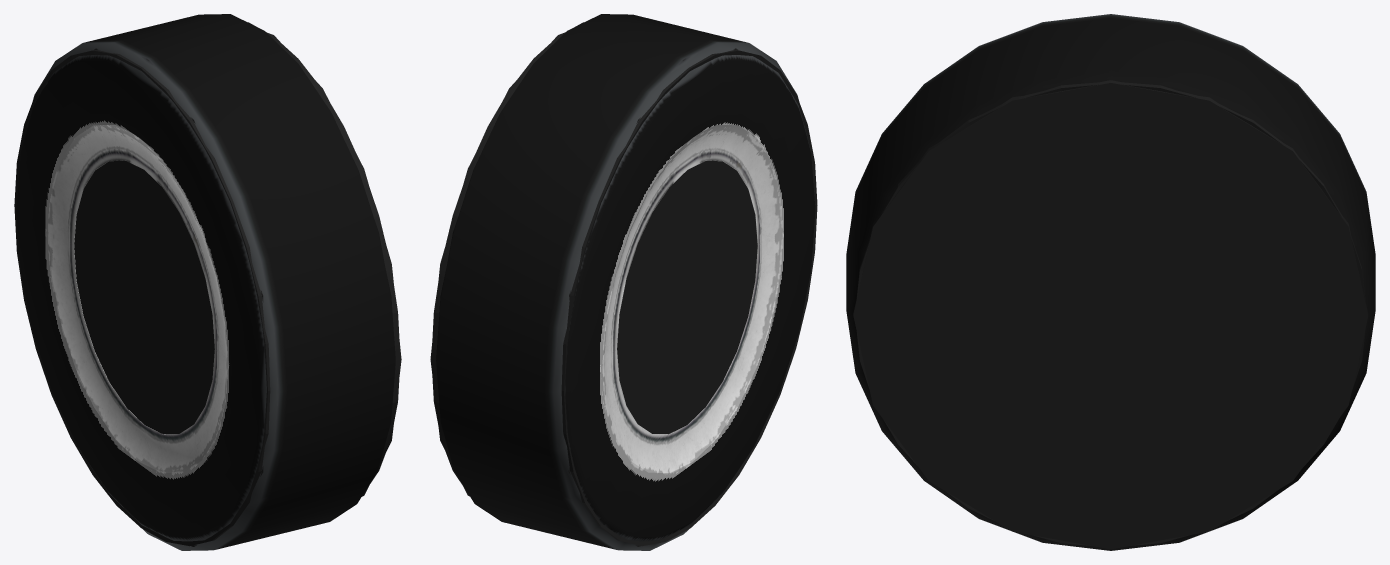
The model's file is SampleCar_01_wheel.FBX.
3 renders of one model, left to right at view 1: azimuth 30°, elevation 25°; view 2: azimuth 150°, elevation 25°; view 3: azimuth 270°, elevation 25°, orthographic.
Parts seen in each view (by area): view 1: wheels_LOD0, UCL_VC_wheel00, UTM_FG_Wheel_L01; view 2: wheels_LOD0, UCL_VC_wheel00, UTM_FG_Wheel_L01; view 3: UCL_VC_wheel00, wheels_LOD0, UTM_FG_Wheel_L01.
Boxes of the visible parts, box(x1,y1,x2,y2) form: wheels_LOD0: box(16, 14, 395, 550); UCL_VC_wheel00: box(74, 33, 401, 546); UTM_FG_Wheel_L01: box(14, 22, 399, 546); wheels_LOD0: box(436, 14, 815, 550); UCL_VC_wheel00: box(430, 33, 757, 546); UTM_FG_Wheel_L01: box(432, 22, 817, 546); UCL_VC_wheel00: box(853, 80, 1368, 549); wheels_LOD0: box(846, 14, 1375, 550); UTM_FG_Wheel_L01: box(856, 82, 1365, 545).
Bounding box in the file's own units: 19.1 × 64.08 × 64.08.
